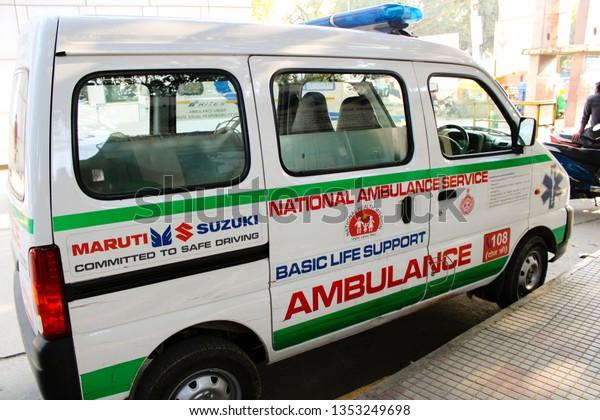ER: (0, 1, 575, 399)
